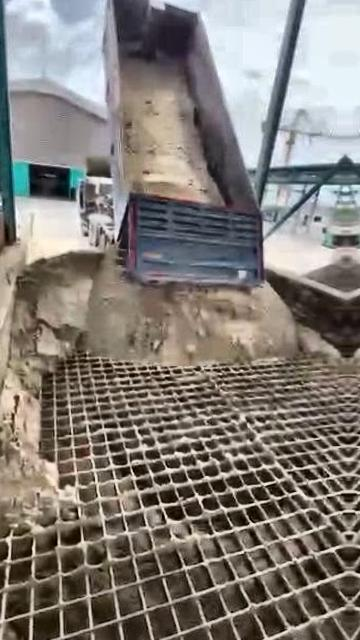sand: (0, 248, 339, 512), (125, 70, 220, 199), (311, 248, 347, 292)
